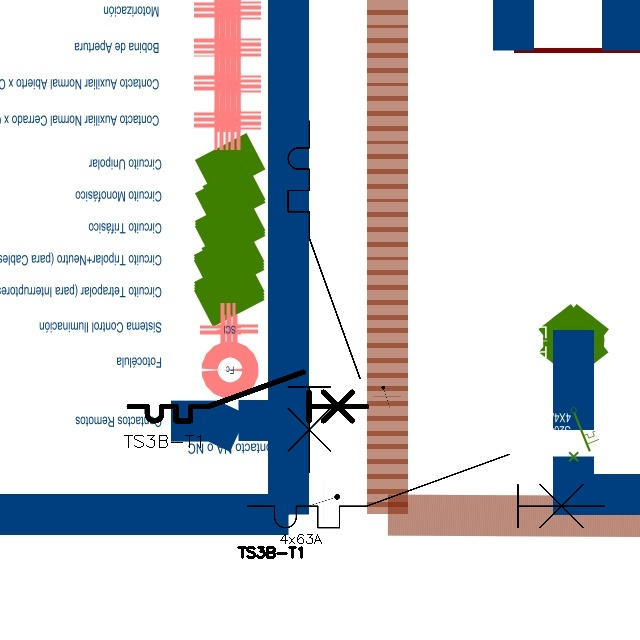interruptor_termomagnetico: (238, 445, 614, 537), (279, 112, 369, 481), (123, 366, 372, 427)
